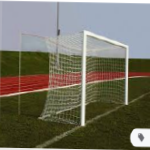goals: (38, 28, 130, 126)
